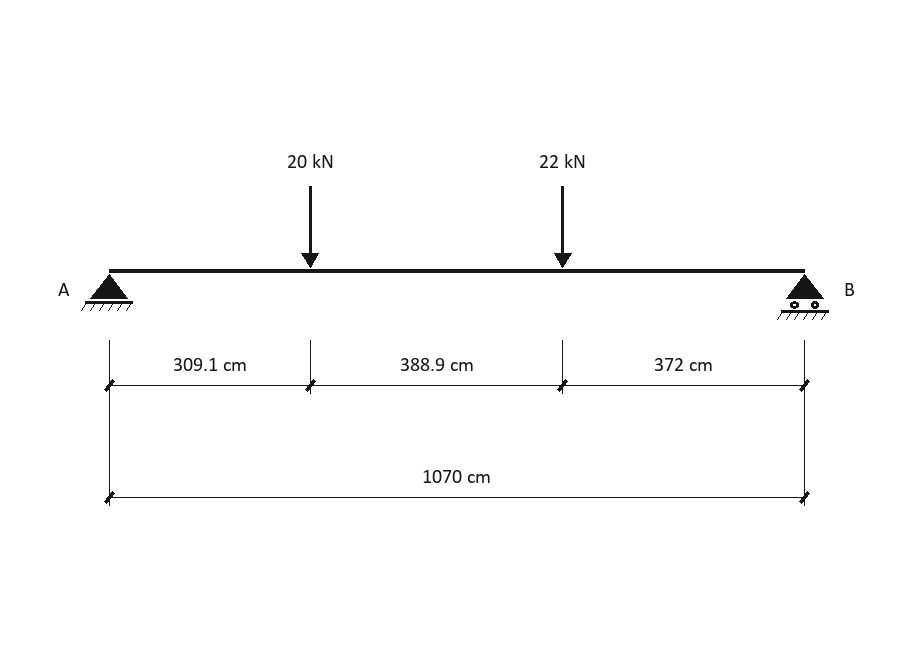pin_support: (81, 274, 133, 311)
point_load: (301, 186, 319, 268), (554, 186, 572, 268)
roller_support: (777, 274, 829, 320)
